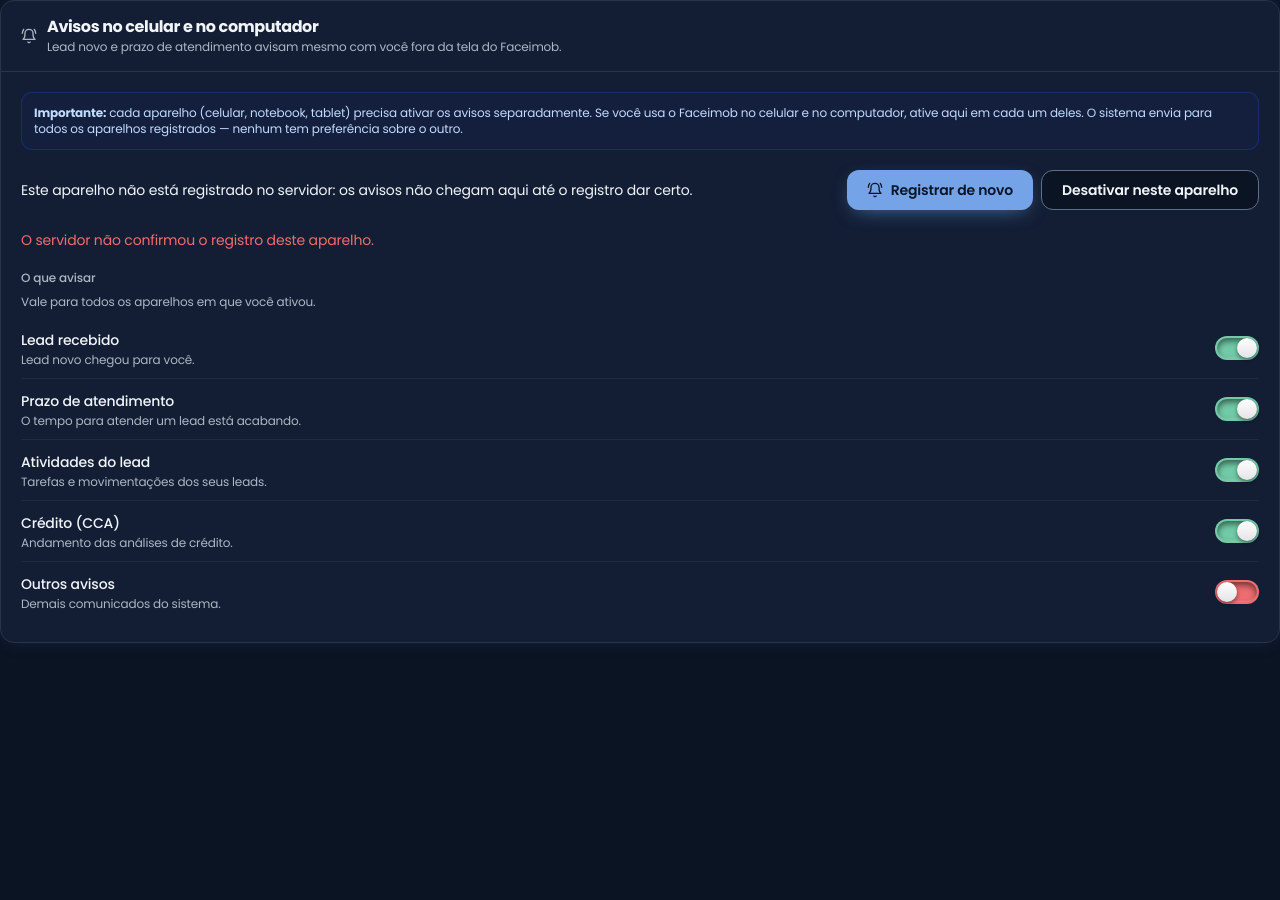
Test: PushSettings › assinatura local sem registro confirmado no servidor não diz 'ligado' nem oferece teste
Check: the text "Ligado neste aparelho." is not shown
Click the button "Registrar de novo" at (940, 190), box [847,170,1033,210]
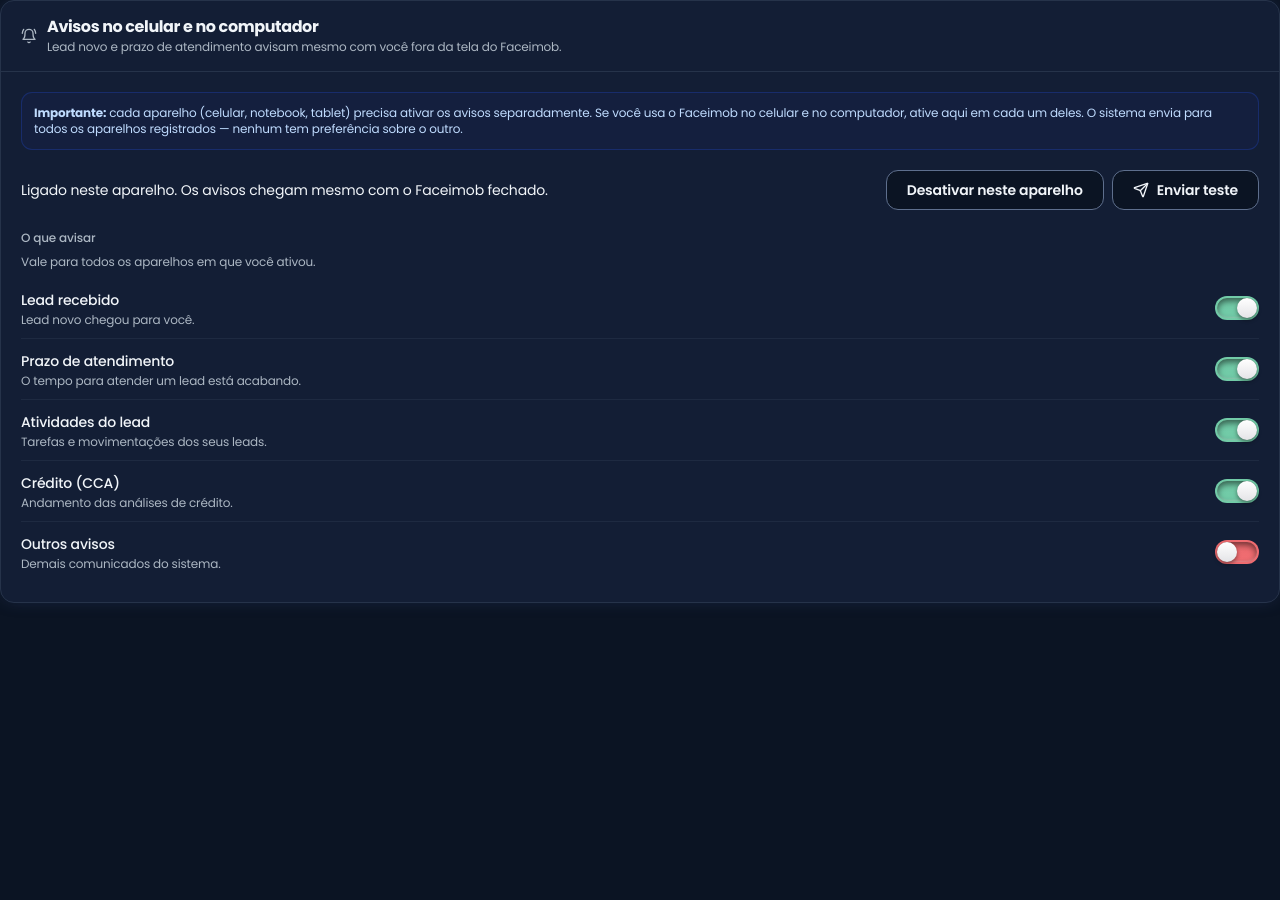
Check: the button "Enviar teste" is shown, box [1112,170,1259,210]
Check: the text "Ligado neste aparelho." is shown, box [21,180,548,200]
